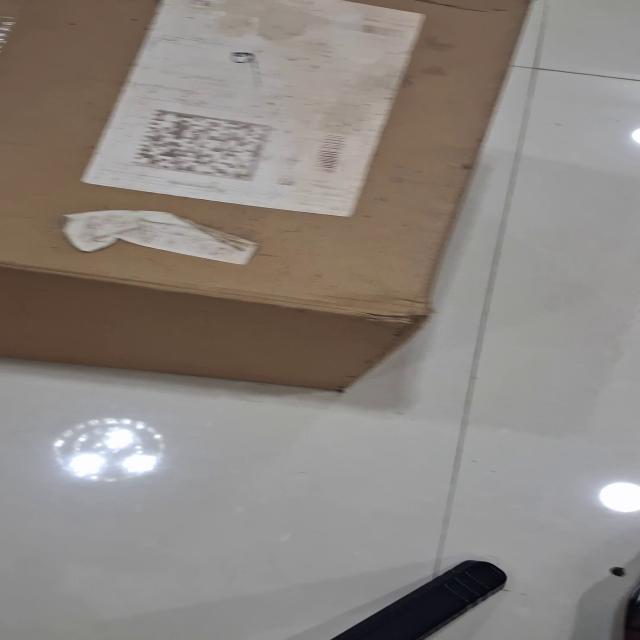paper: (78, 0, 426, 217), (61, 209, 260, 265)
